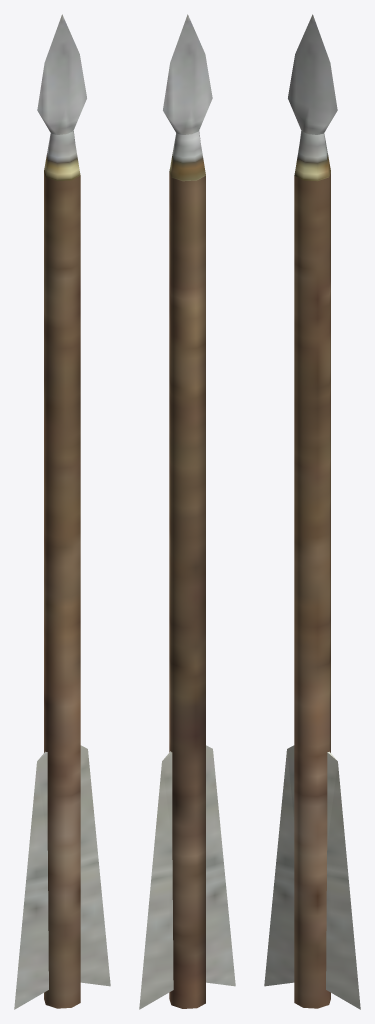
Rendered from bolt_projectile.glb.
3 renders of one model, left to right at view 1: azimuth 30°, elevation 25°; view 2: azimuth 210°, elevation 25°; view 3: azimuth 330°, elevation 25°, orthographic.
Visible parts, largest first — view 1: bolt_projectile_part0; view 2: bolt_projectile_part0; view 3: bolt_projectile_part0.
Part boxes in pixels (<box>): bolt_projectile_part0: <box>14,14,110,1009</box>; bolt_projectile_part0: <box>139,14,235,1009</box>; bolt_projectile_part0: <box>264,14,360,1009</box>.
Bounding box in the file's own units: 1.4 × 13.67 × 0.4763.
1 material, 1 textured.
